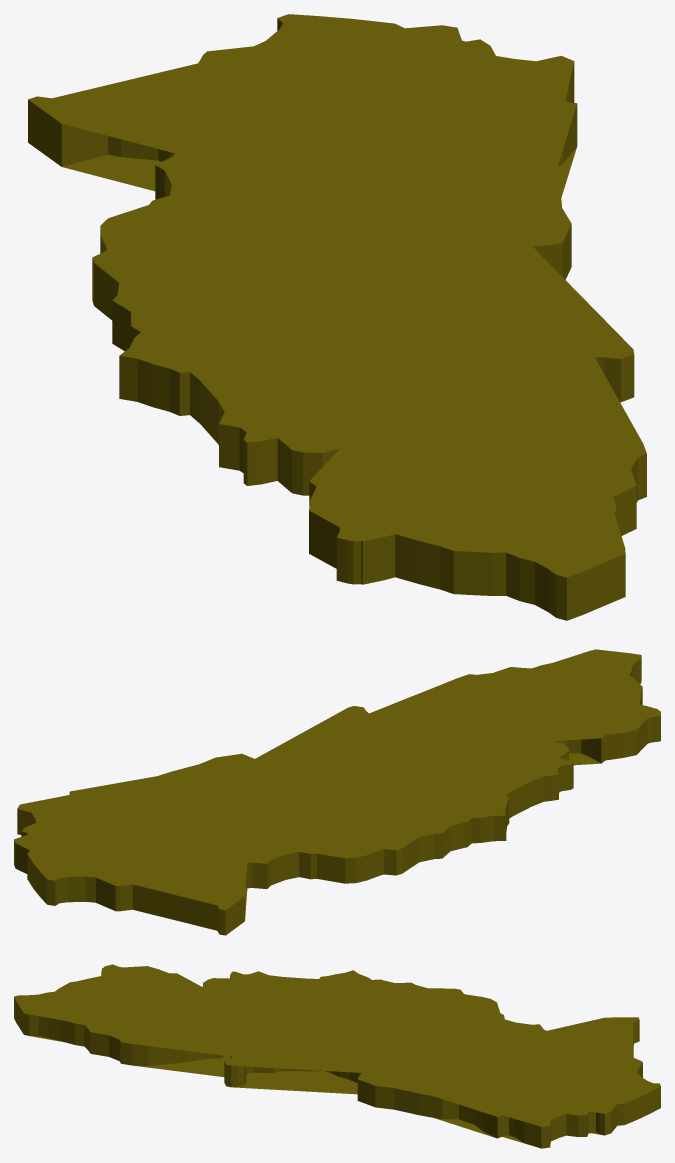
Rendered from chattisgarh.fbx.
3 renders of one model, top to bottom at view 1: azimuth 30°, elevation 25°; view 2: azimuth 150°, elevation 25°; view 3: azimuth 270°, elevation 25°, orthographic. The views are drawn at different scales.
Parts seen in each view (by area): view 1: Chhattisgarh; view 2: Chhattisgarh; view 3: Chhattisgarh.
Boxes of the visible parts, <box> form: Chhattisgarh: <box>28,14,646,620</box>; Chhattisgarh: <box>14,649,660,935</box>; Chhattisgarh: <box>14,964,660,1148</box>.
Size of the model in its own units: 60.37 by 3.74 by 102.
